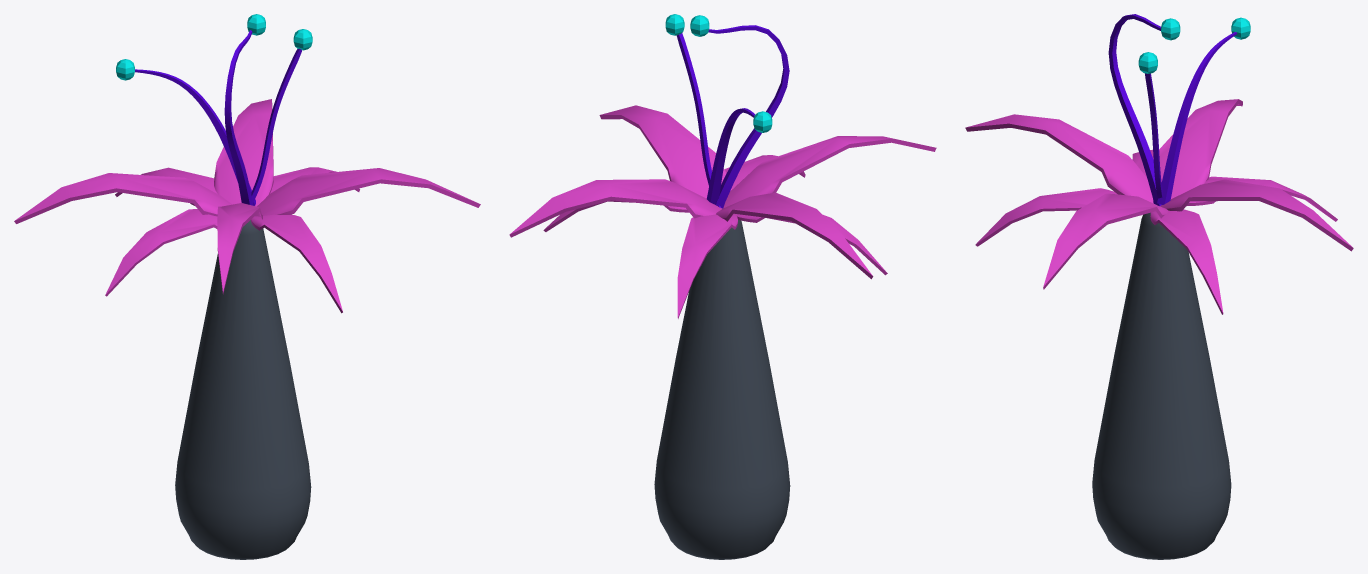
The model's file is Seed_Plant_VariantONE.fbx.
3 views of the same model, side by side, from view 1: azimuth 30°, elevation 25°; view 2: azimuth 150°, elevation 25°; view 3: azimuth 270°, elevation 25° (orthographic). The views are drawn at different scales.
Visible parts, largest first — view 1: PlantyPlantONE; view 2: PlantyPlantONE; view 3: PlantyPlantONE.
Boxes of the visible parts, x1,y1,x2,y2 form: PlantyPlantONE: (14,14,480,559); PlantyPlantONE: (509,14,936,559); PlantyPlantONE: (965,14,1353,559).
Size of the model in its own units: 1.44 by 1.92 by 1.28.
